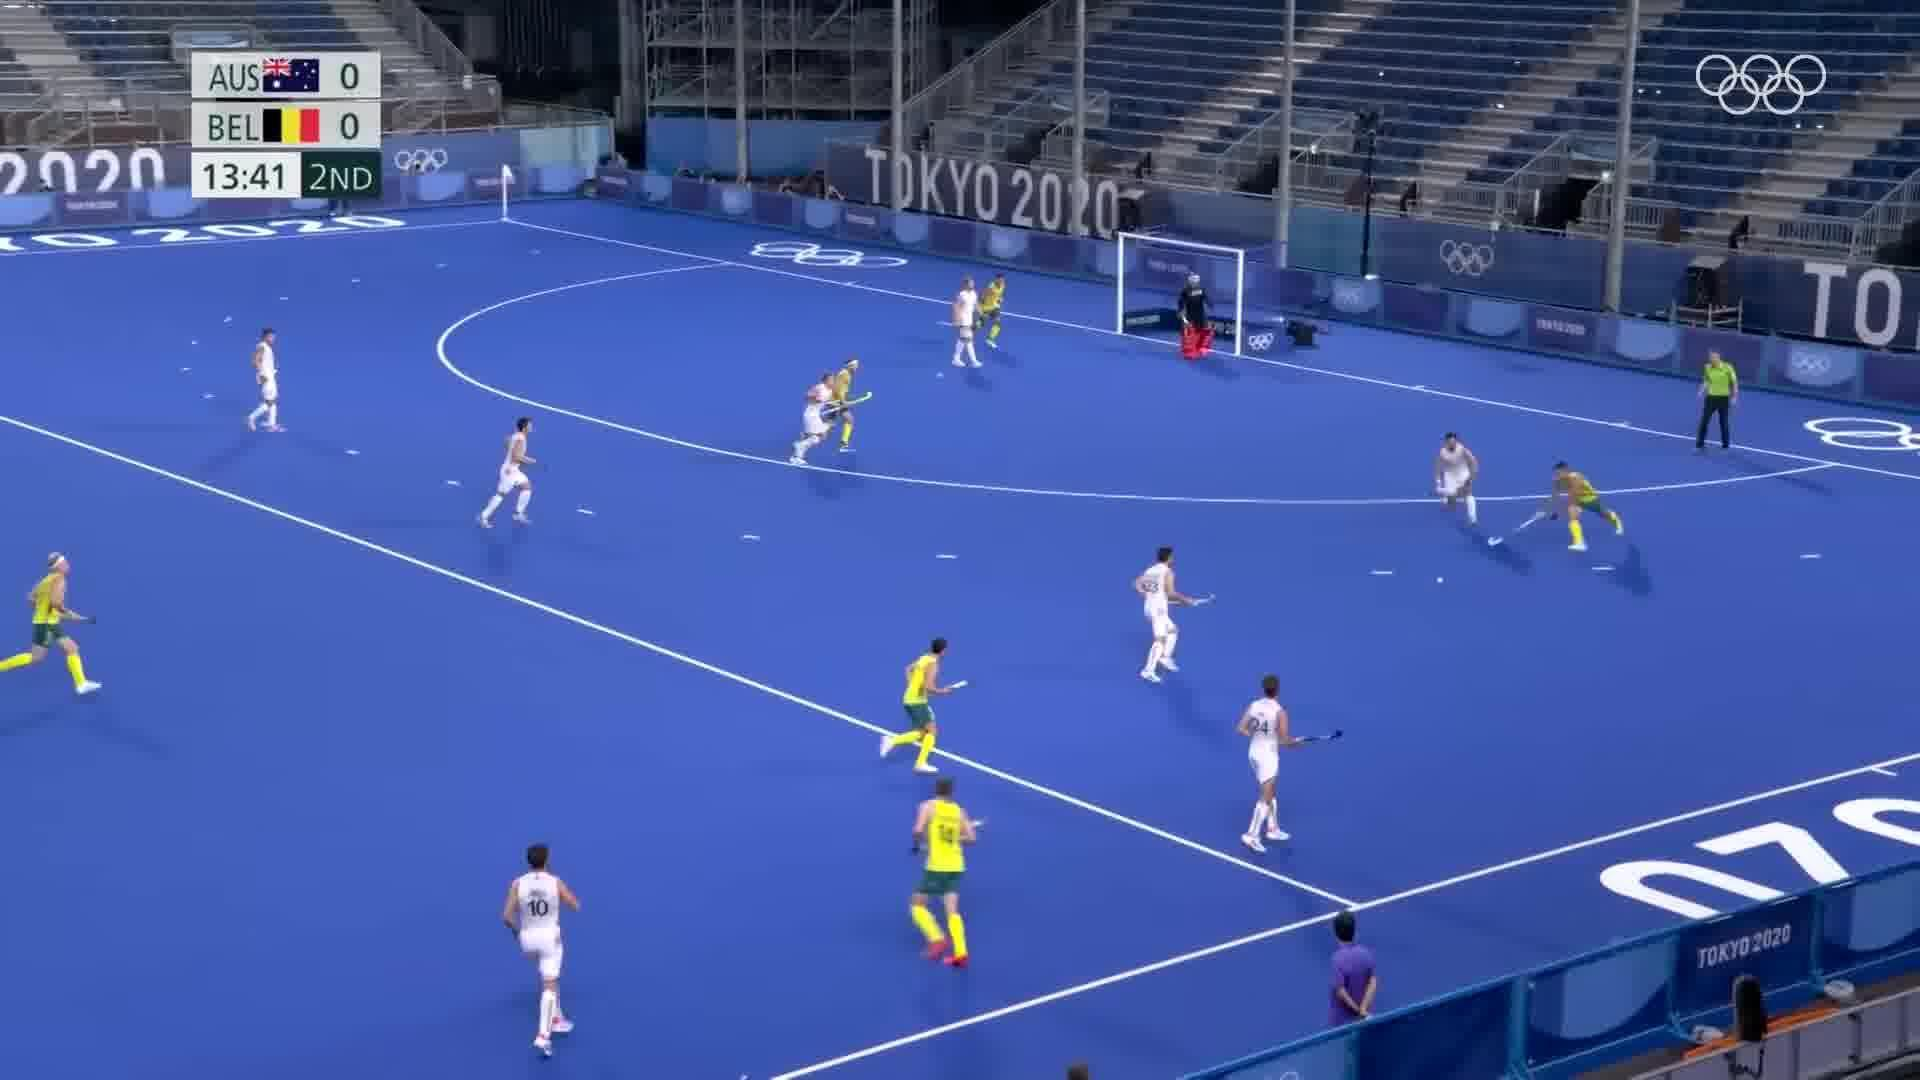ball: (1424, 568, 1457, 592)
